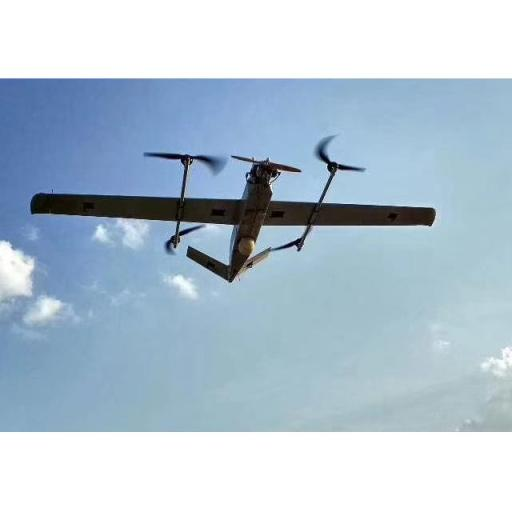uav: (26, 136, 450, 282)
